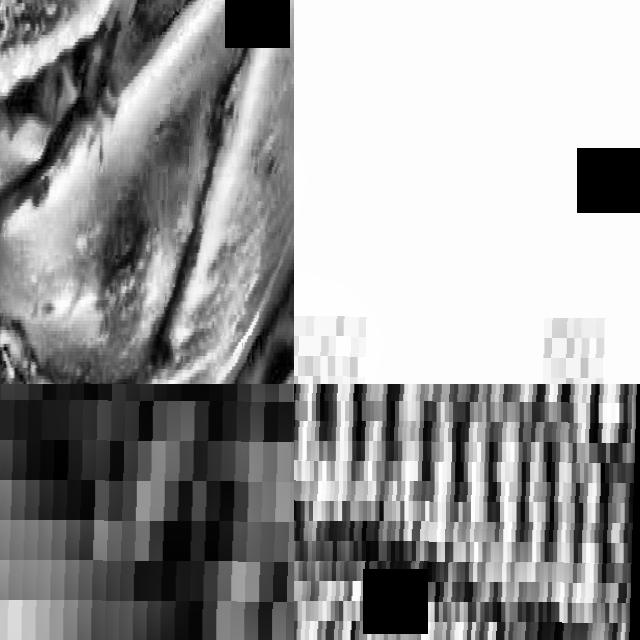crab: (294, 0, 640, 384), (0, 0, 294, 384), (0, 384, 294, 640)
fish: (294, 384, 640, 640)
